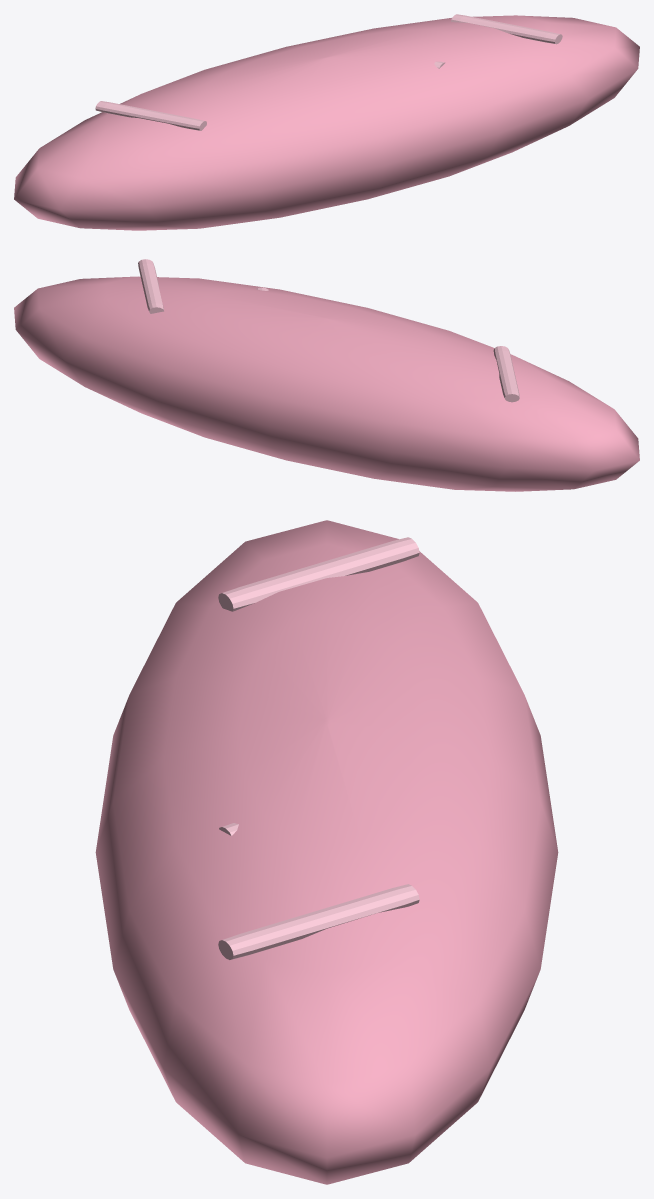
Rendered from sausage_raw.glb.
3 views of the same model, one above another, from view 1: azimuth 30°, elevation 25°; view 2: azimuth 150°, elevation 25°; view 3: azimuth 270°, elevation 25° (orthographic). The views are drawn at different scales.
Visible parts, largest first — view 1: model; view 2: model; view 3: model.
Boxes of the visible parts, box(x1,y1,x2,y2) form: model: box(14, 14, 639, 230); model: box(14, 259, 639, 491); model: box(95, 520, 558, 1184).
Bounding box in the file's own units: 0.25 × 0.05 × 0.08.
